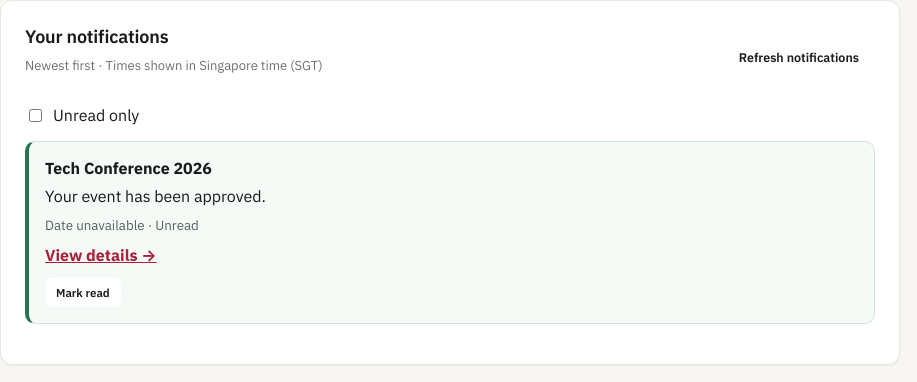
Test: opening legacy item saves read before navigation (already read: false)
This screenshot has width=917, height=382.
Check: the text "Your event has been approved." is shown, box [45,186,266,206]
Click the link: x=128, y=168 [45,158,266,264]
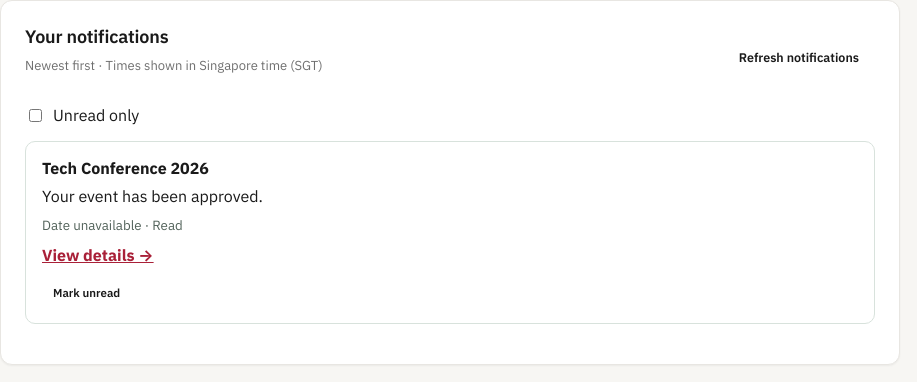
Check: the button "Mark unread" is shown
Click the button "Mark unread": x=87, y=293 [42,278,131,307]
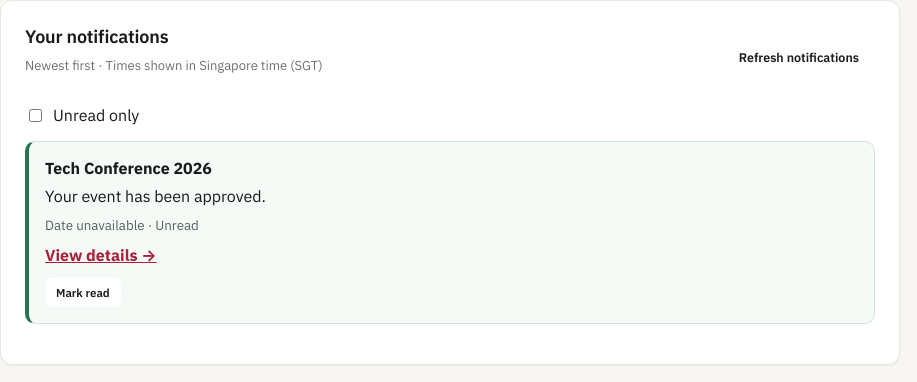
Check: the button "Mark read" is shown, box [45,278,121,307]
